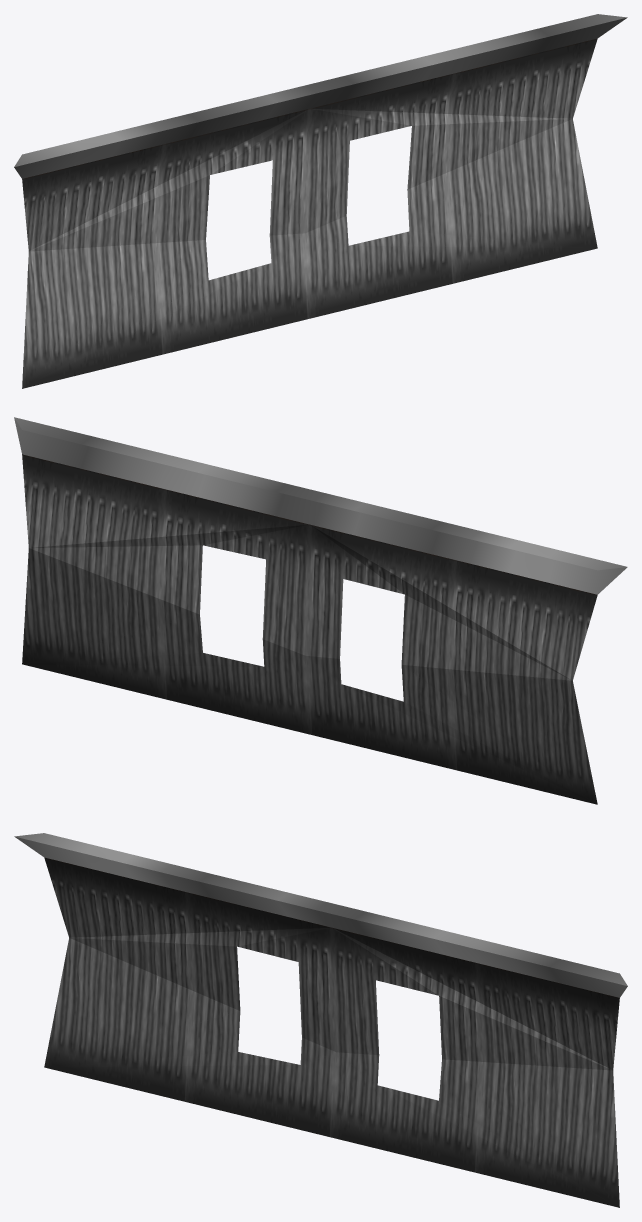
File: W_A1_xffx [Wellblech]_742.glb
The picture shows the model from 3 angles, top to bottom: view 1: azimuth 30°, elevation 25°; view 2: azimuth 150°, elevation 25°; view 3: azimuth 330°, elevation 25°; orthographic projection.
Visible parts, largest first — view 1: polySurfaceShape807, polySurfaceShape1019; view 2: polySurfaceShape807, polySurfaceShape1019; view 3: polySurfaceShape807, polySurfaceShape1019.
Part boxes in pixels (box(x1,y1,x2,y2)): polySurfaceShape807: box(22, 38, 597, 388); polySurfaceShape1019: box(14, 14, 627, 178); polySurfaceShape807: box(22, 454, 597, 804); polySurfaceShape1019: box(14, 417, 627, 594); polySurfaceShape807: box(44, 857, 619, 1207); polySurfaceShape1019: box(14, 833, 627, 997).
Bounding box in the file's own units: 1.07 × 0.3891 × 0.0607.
2 materials, 2 textured.
